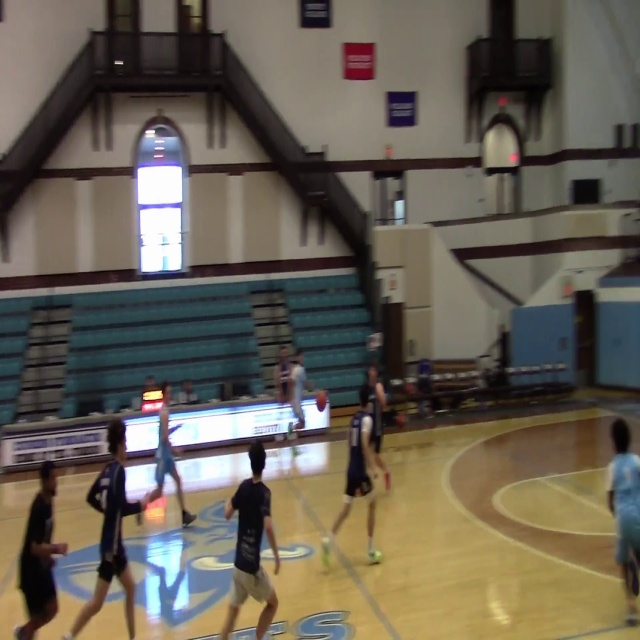Basketball: (315, 390, 328, 412), (394, 414, 406, 427)
